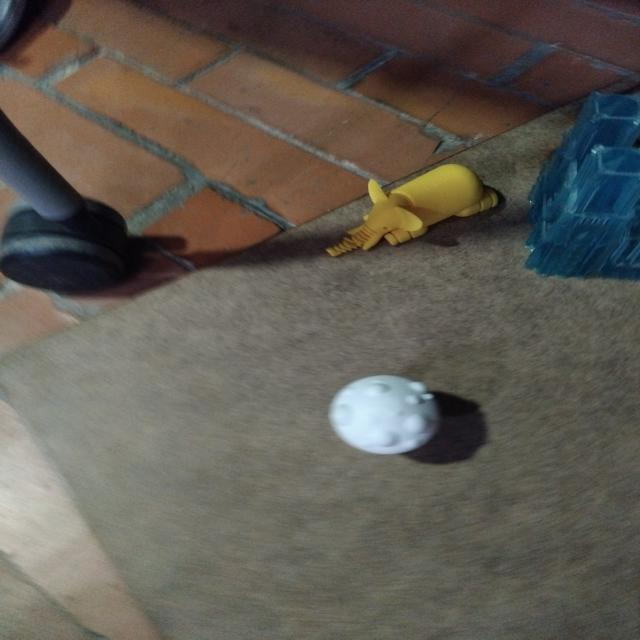Hongo: (325, 365, 445, 465)
